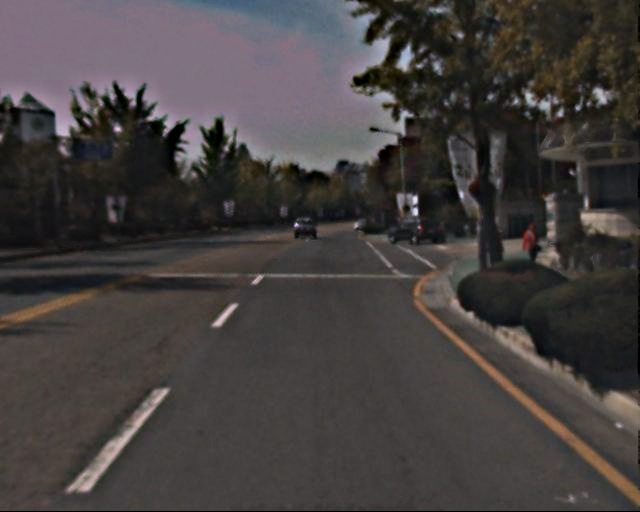person: (520, 221, 543, 276)
